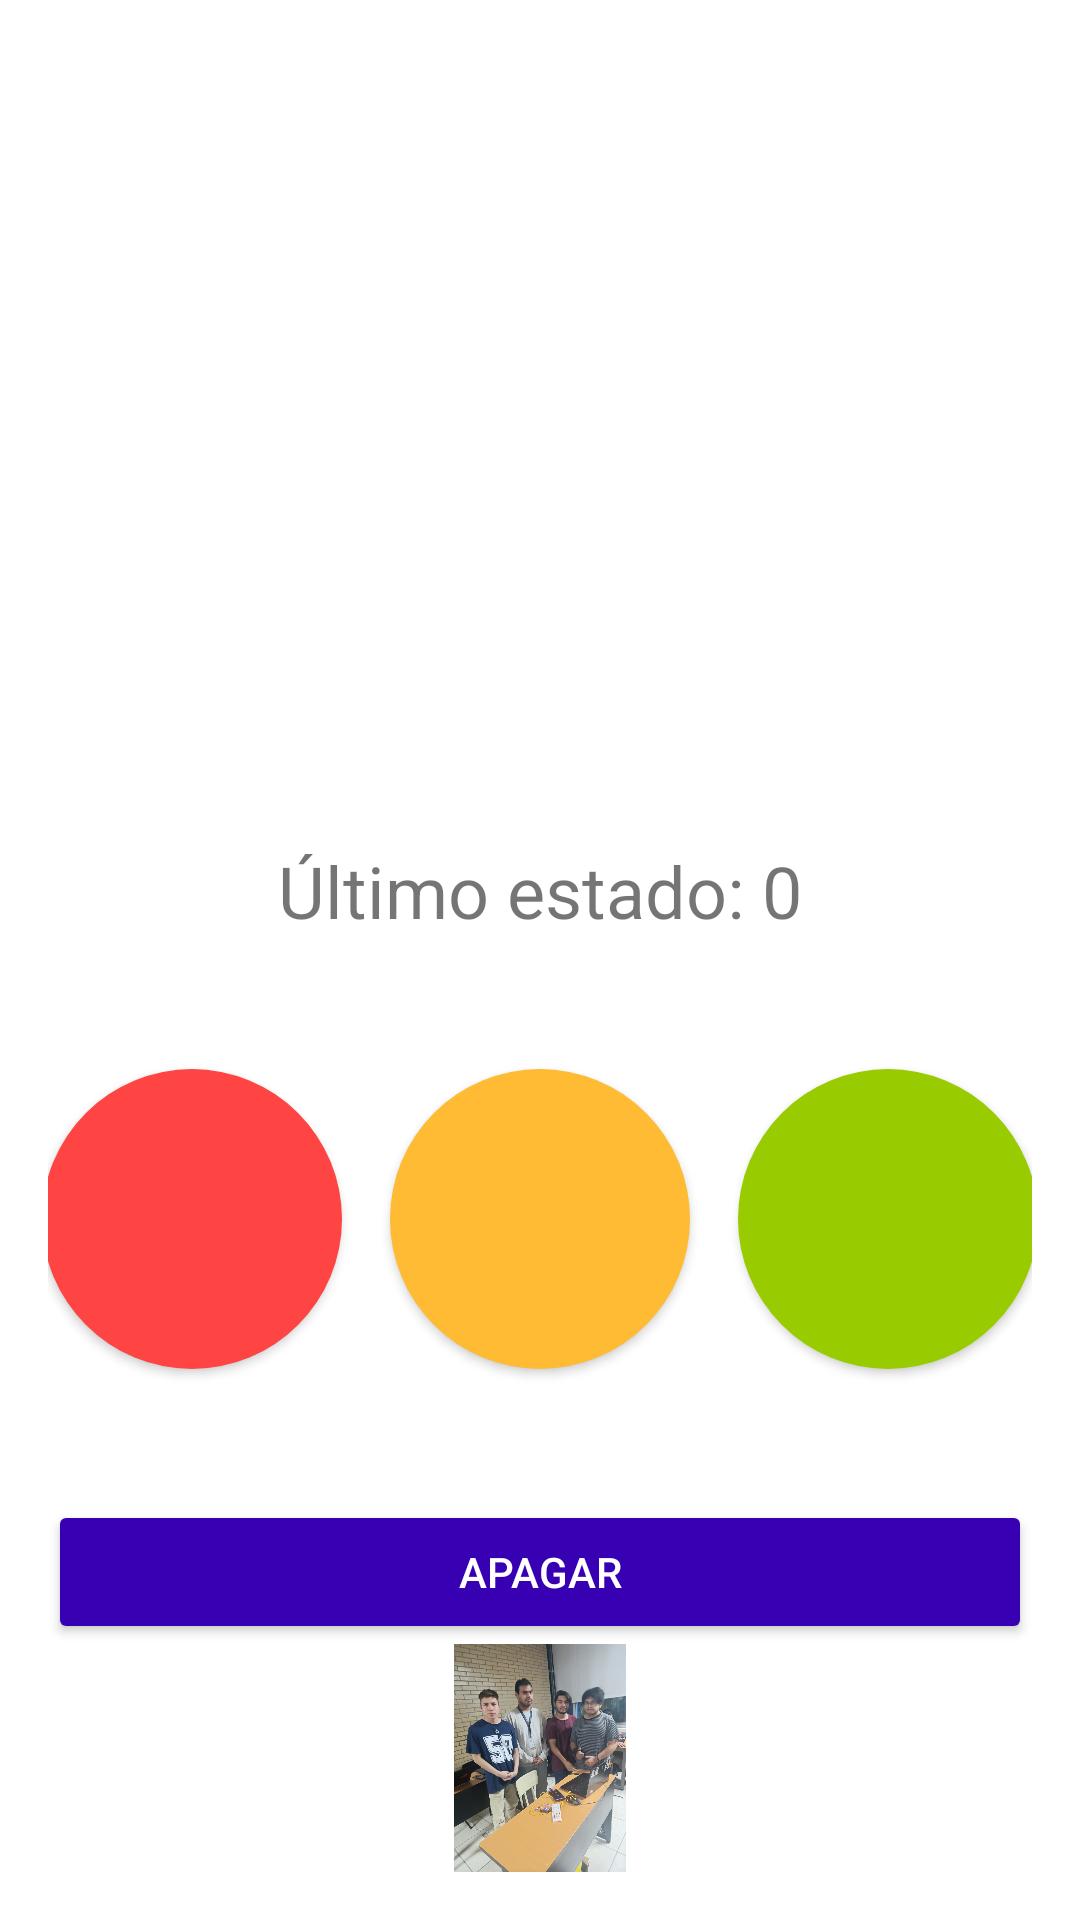

Screen size 1080x1920. Icon name, then its box in pixels as (x1, y1, x2, y2):
fotoproyecto: (454, 1644, 626, 1872)
